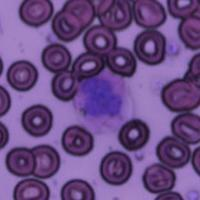N: (73, 68, 138, 132)
